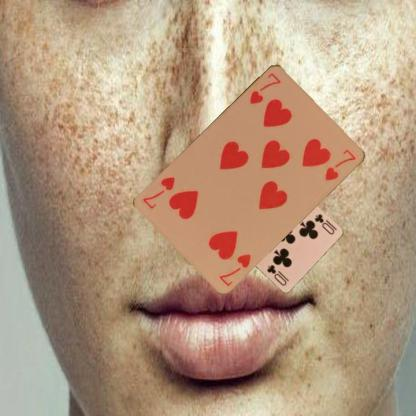10c: (311, 211, 336, 236)
7h: (216, 251, 253, 287), (247, 69, 282, 105)
